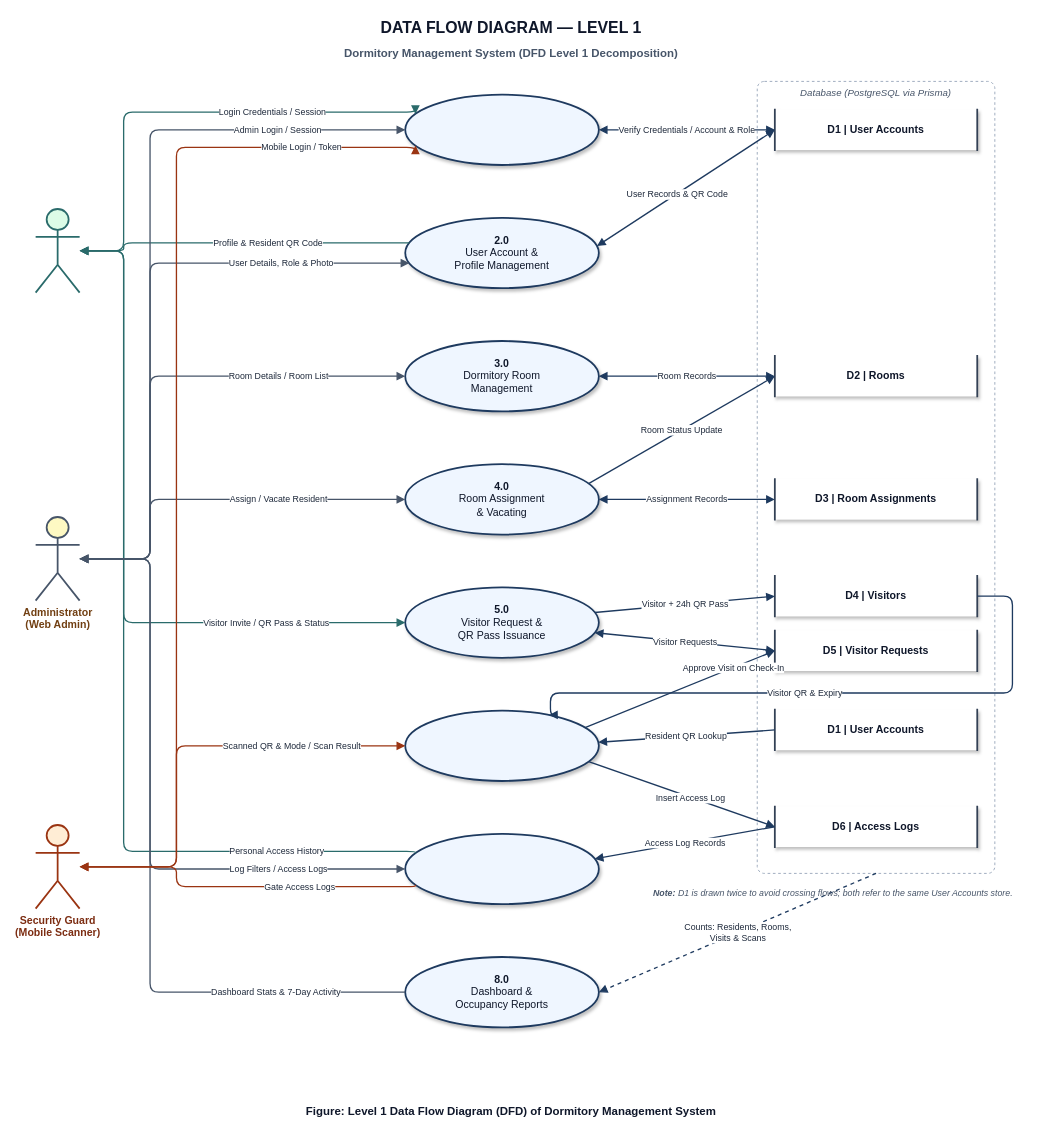
This 1037x1139 diagram has some shape labels left out. Here are the shapes that lost their labels. From the top down, the centre of each, then its label:
the point at 502,131: 1.0 User Authentication & Session Management
the point at 57,250: Resident (Web & Mobile)
the point at 502,747: 6.0 QR Gate Access Control (Check-In/Out)
the point at 502,870: 7.0 Access Log Monitoring
